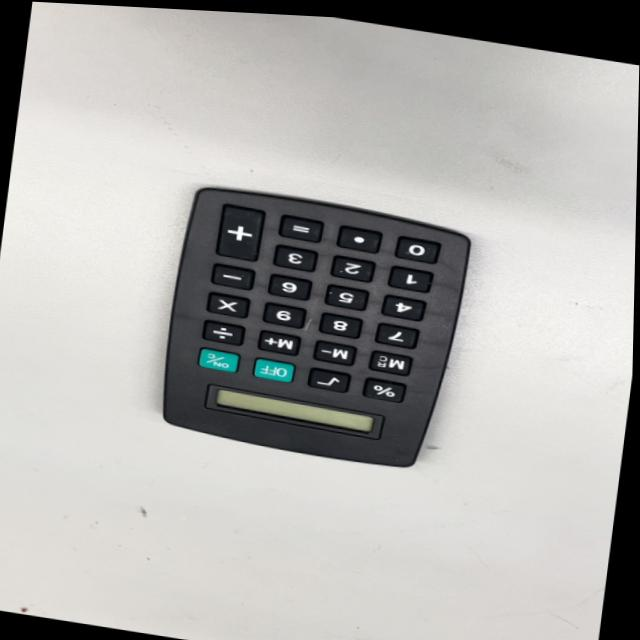calculator: (137, 170, 474, 498)
